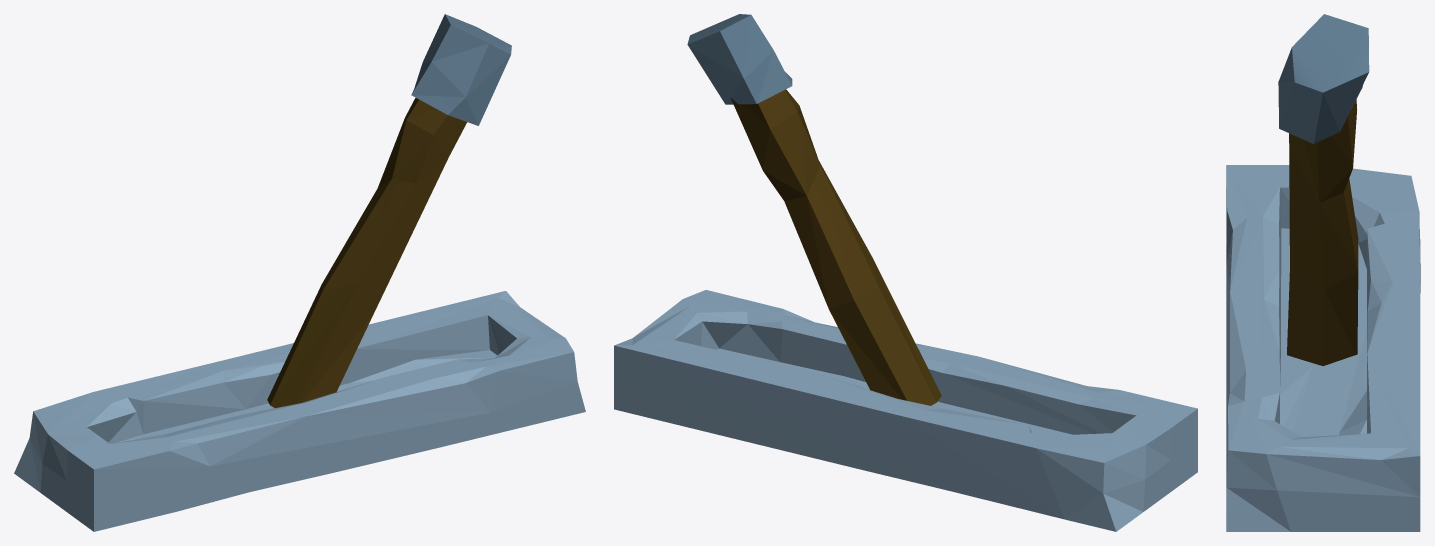
Rendered from Lever_01.fbx.
3 renders of one model, left to right at view 1: azimuth 30°, elevation 25°; view 2: azimuth 150°, elevation 25°; view 3: azimuth 270°, elevation 25°, orthographic. The views are drawn at different scales.
Parts seen in each view (by area): view 1: PALANCA_DEFINITVA, PALANCA_DEFINITVA.001; view 2: PALANCA_DEFINITVA, PALANCA_DEFINITVA.001; view 3: PALANCA_DEFINITVA, PALANCA_DEFINITVA.001.
Boxes of the visible parts, left/top/right/bottom form: PALANCA_DEFINITVA: left=14, top=291, right=585, bottom=531; PALANCA_DEFINITVA.001: left=267, top=14, right=511, bottom=407; PALANCA_DEFINITVA: left=614, top=290, right=1197, bottom=531; PALANCA_DEFINITVA.001: left=687, top=14, right=941, bottom=405; PALANCA_DEFINITVA: left=1226, top=165, right=1420, bottom=531; PALANCA_DEFINITVA.001: left=1278, top=14, right=1369, bottom=365.
Bounding box in the file's own units: 965 × 713 × 272.
